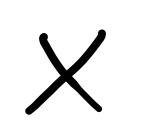mult: (25, 28, 107, 115)
